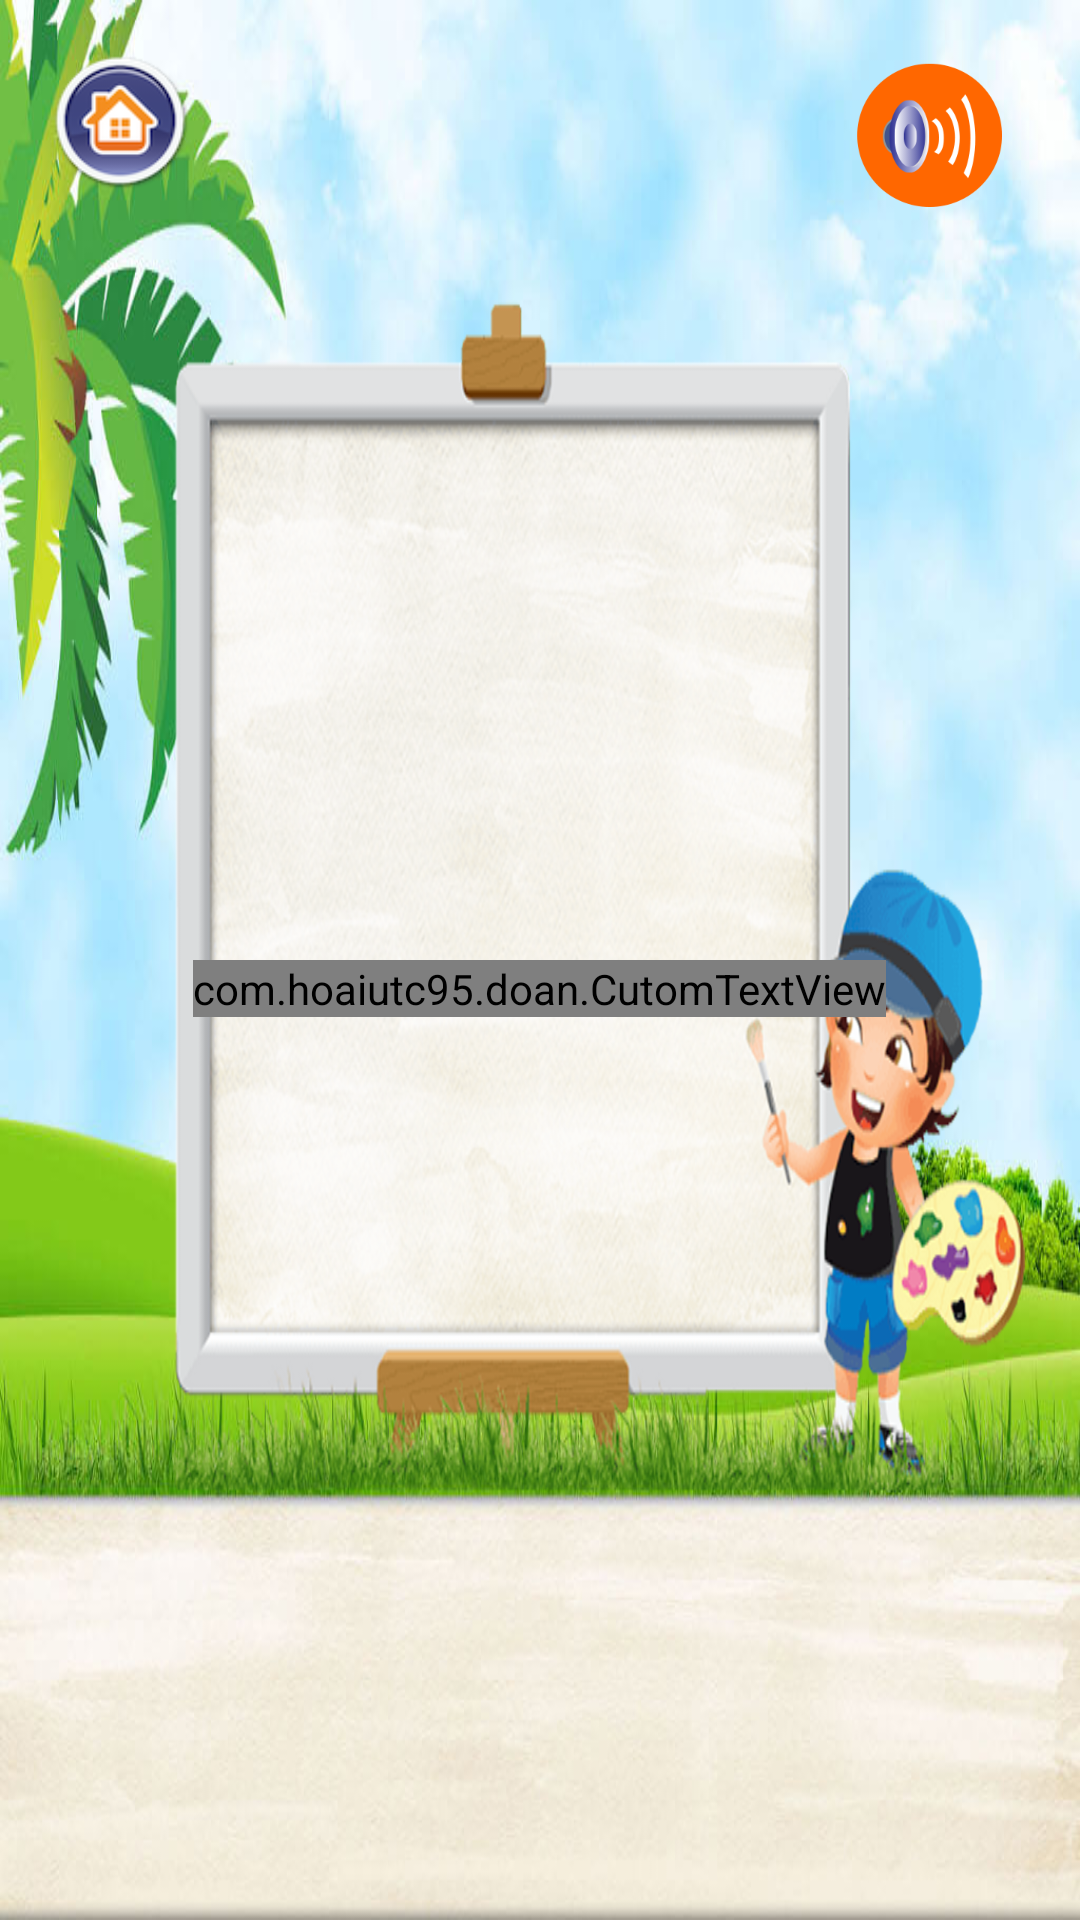

Icon bounding boxes for this 1080x1920 phone screenshot, format (x1, y1, x2, y2):
speakeron: (857, 60, 1005, 210)
